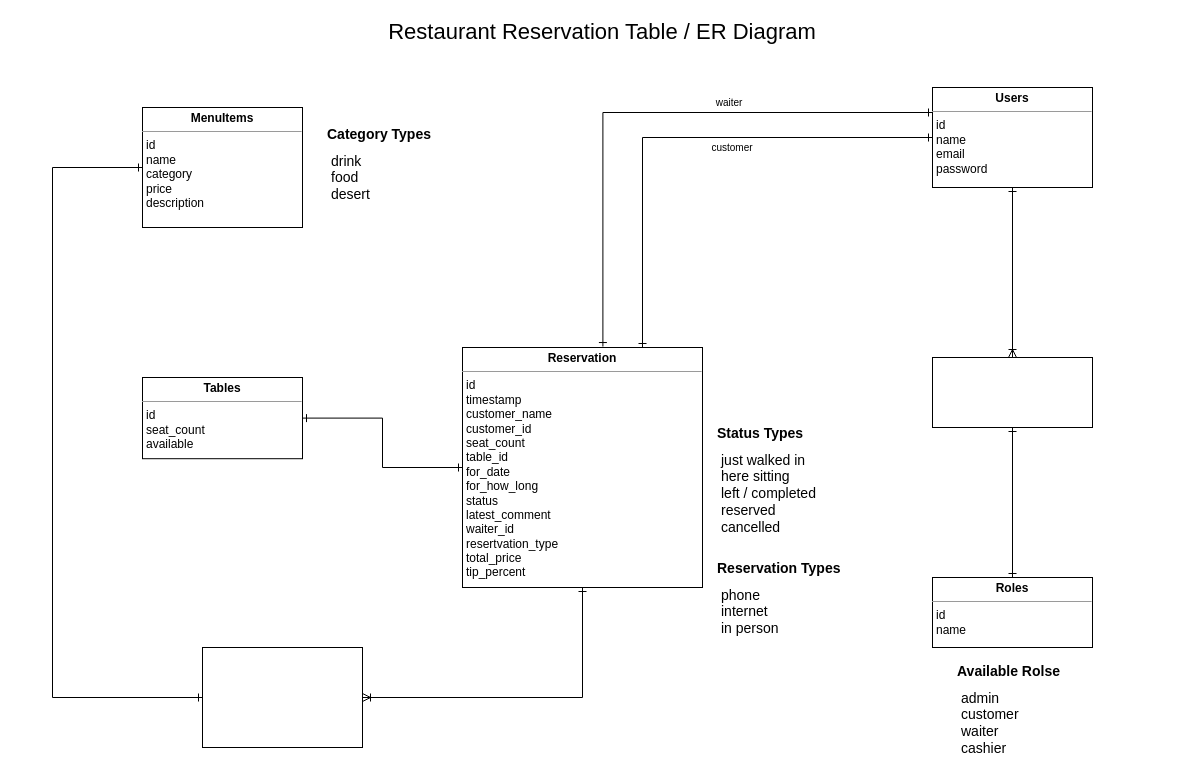
Image size: 1204x777. Some labels were removed from this diagram. Each missing label, with the centre of its shape:
OrderItems id reservation_id menu_item_id count: the point at 282,697
UserRole user_id role_id: the point at 1012,392
